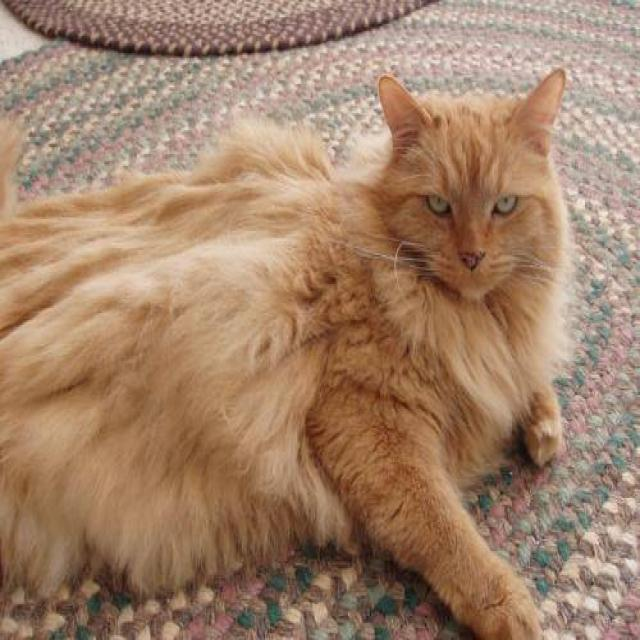Cat: (361, 65, 576, 318)
